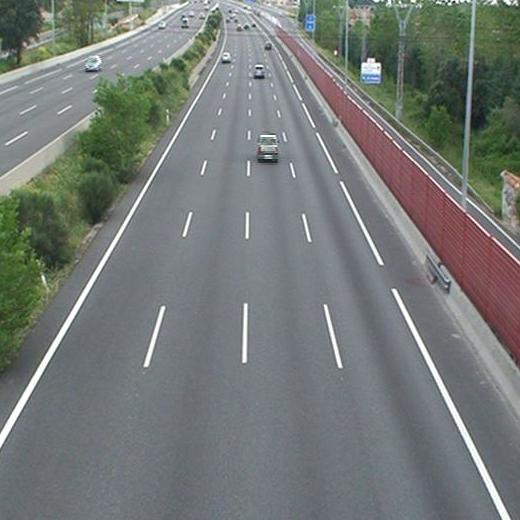car: (258, 135, 279, 159), (255, 64, 265, 77), (222, 53, 231, 62), (264, 42, 271, 49)
